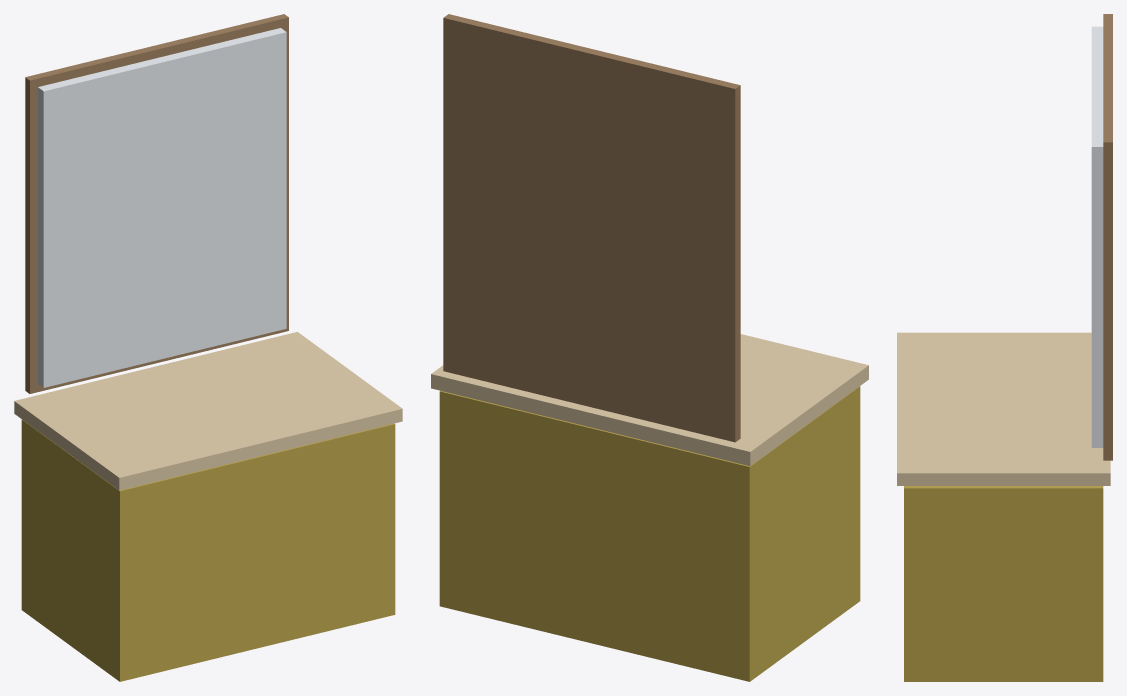
Rendered from mirror_station.glb.
3 views of the same model, side by side, from view 1: azimuth 30°, elevation 25°; view 2: azimuth 150°, elevation 25°; view 3: azimuth 270°, elevation 25° (orthographic). The views are drawn at different scales.
Parts seen in each view (by area): view 1: mirror_surface, drawers, desk_top, mirror_frame; view 2: mirror_frame, drawers, desk_top; view 3: drawers, desk_top, mirror_surface, mirror_frame.
Part boxes in pixels (<box>): mirror_surface: <box>38,28,286,387</box>; drawers: <box>21,419,395,681</box>; desk_top: <box>14,332,402,490</box>; mirror_frame: <box>25,14,288,393</box>; mirror_frame: <box>443,14,740,442</box>; drawers: <box>439,386,860,681</box>; desk_top: <box>431,334,868,466</box>; drawers: <box>904,486,1103,681</box>; desk_top: <box>897,332,1110,485</box>; mirror_surface: <box>1091,26,1103,447</box>; mirror_frame: <box>1103,14,1112,460</box>.
Bounding box in the file's own units: 0.7 × 1.24 × 0.455.
